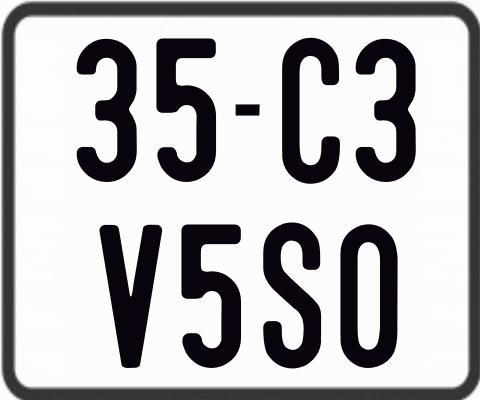0: (337, 221, 395, 365)
3: (76, 36, 140, 184), (353, 39, 417, 182)
5: (153, 36, 219, 186), (178, 224, 239, 368)
C: (281, 37, 341, 189)
S: (260, 219, 320, 365)
V: (100, 223, 168, 366)
